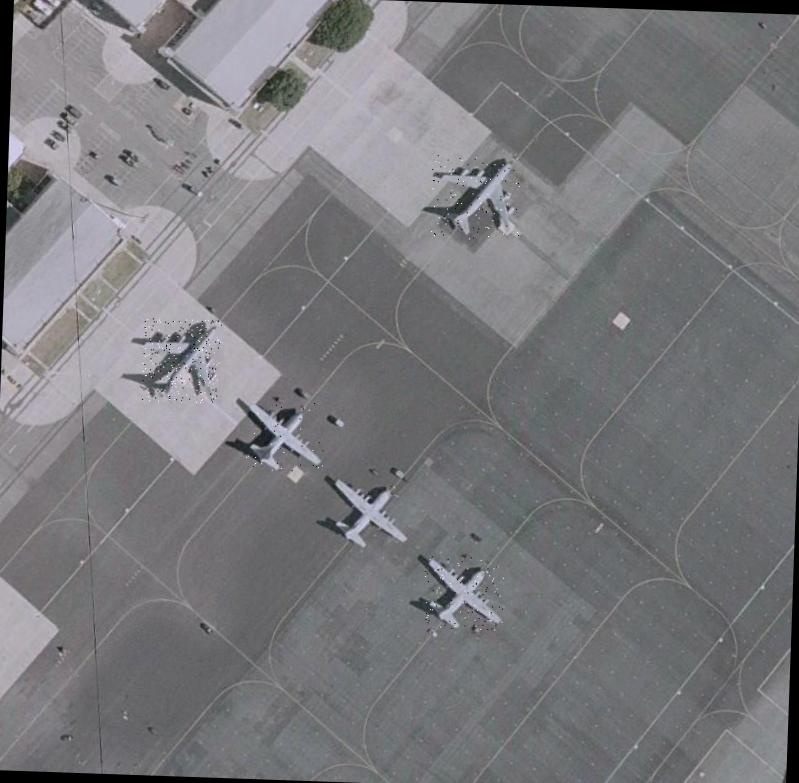A14: (430, 154, 521, 240), (140, 317, 222, 403)
A2: (243, 397, 326, 471), (423, 555, 504, 630), (328, 474, 410, 548)
